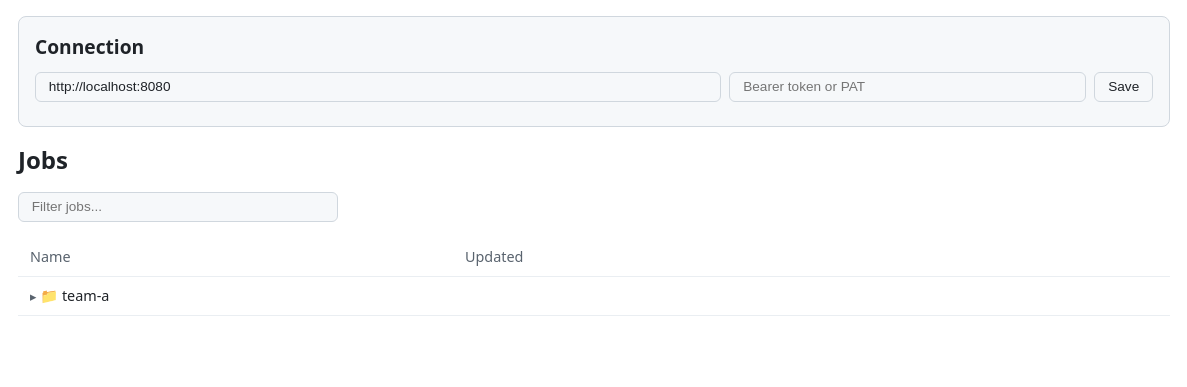
Scenario: JobList — collapse-by-default and pinned Running section (Task 2) › persists a folder to localStorage when expanded by clicking (write path)
Expected: the text "team-a" is shown, [36,286,109,305]
Click the text "team-a" at (594, 296), box [18,276,1170,316]
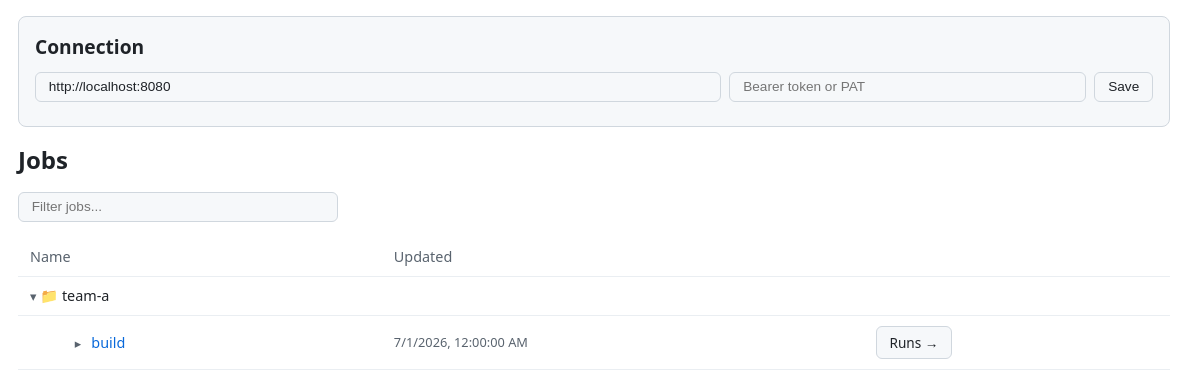
Expected: the link "build" is shown, [91,333,125,352]
